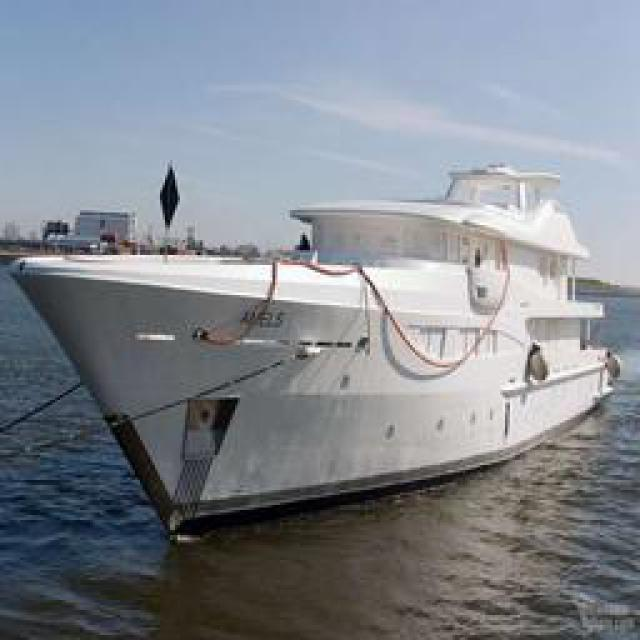Ship: (11, 172, 626, 542)
